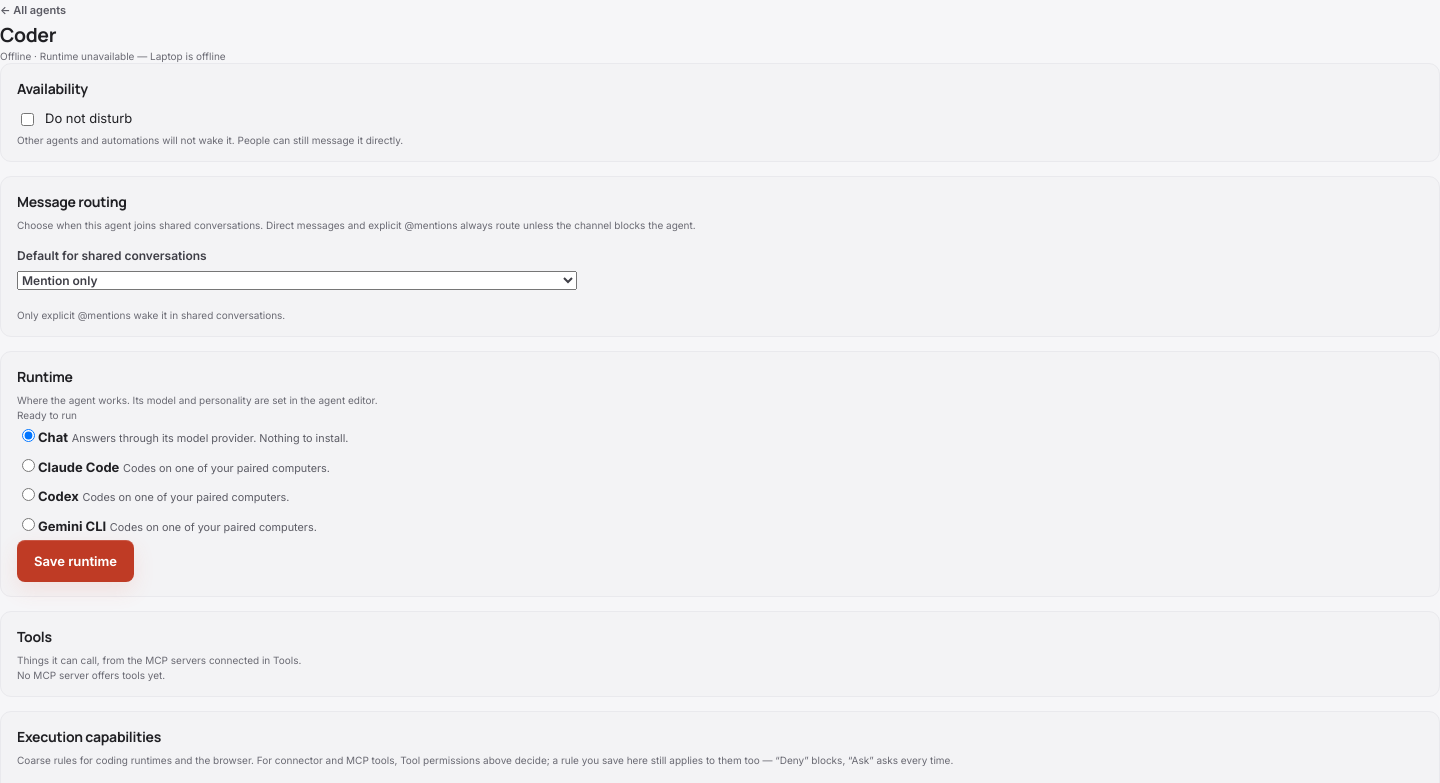
agent settings › explains how to make a coding runtime available when nothing is paired
The image size is (1440, 783).
Expected: the text "Offline · Runtime unavailable — Laptop is offline" is shown, [0,50,226,62]
Click the radio button labelled "Codex Codes on one of your paired computers.".
click(28, 495)  # box [22,488,35,501]
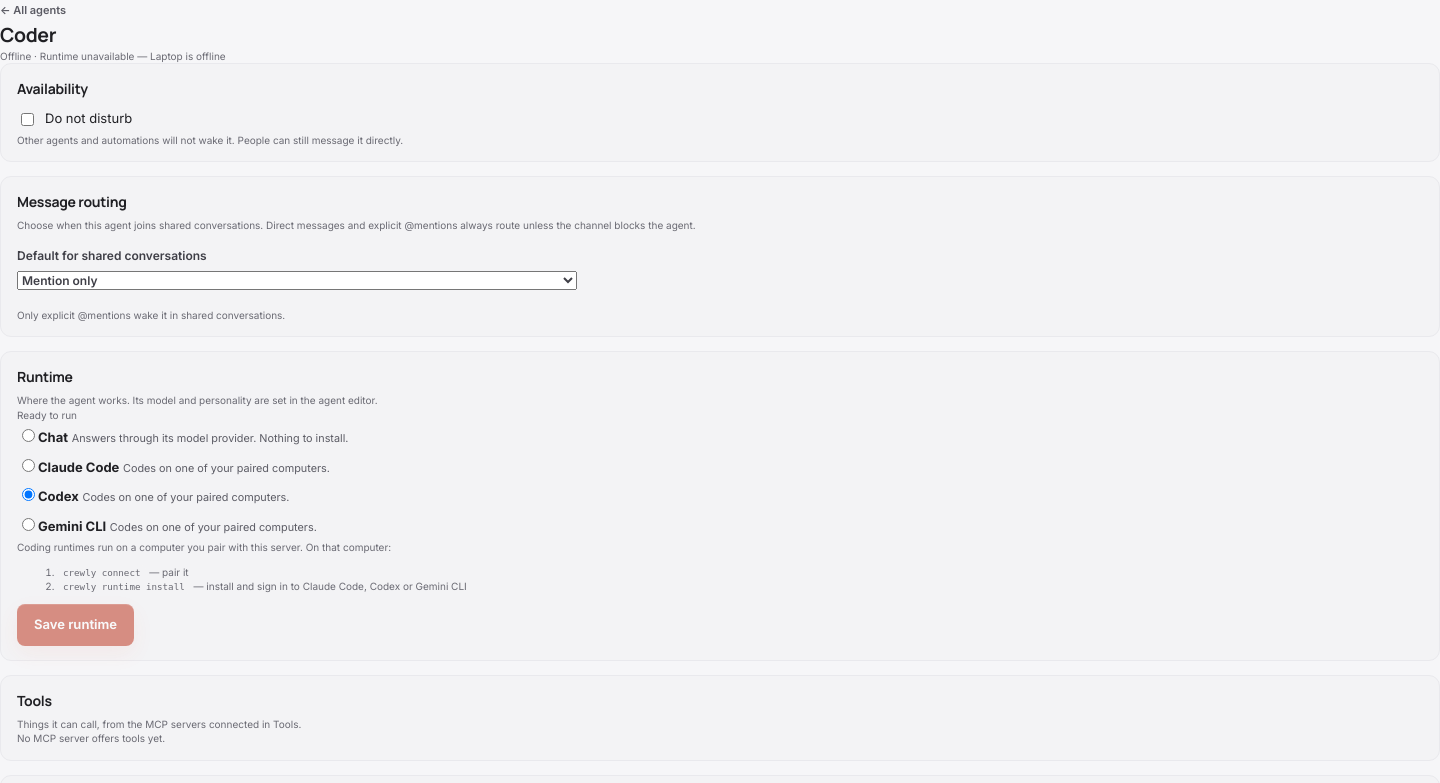
Now the text "crewly runtime install" is shown, box [57,579,191,594]
Now the text "crewly connect" is shown, box [57,565,146,580]
